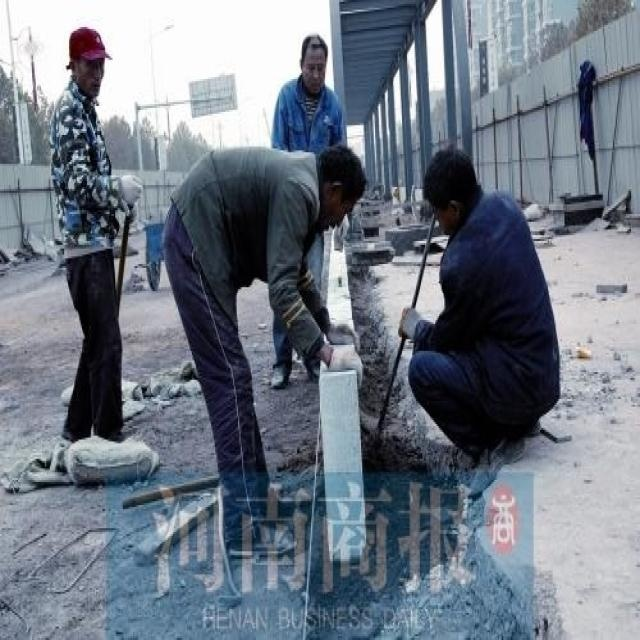Sin_Casco_Mascarrilla: (424, 150, 483, 227), (295, 32, 332, 89)
